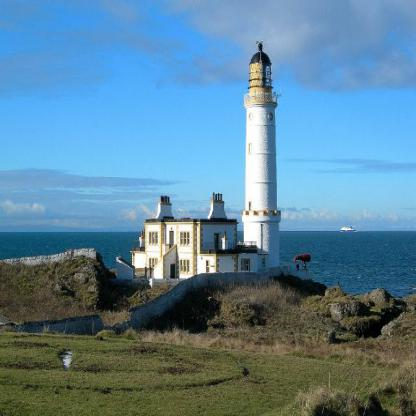lighthouse: (239, 38, 291, 222)
